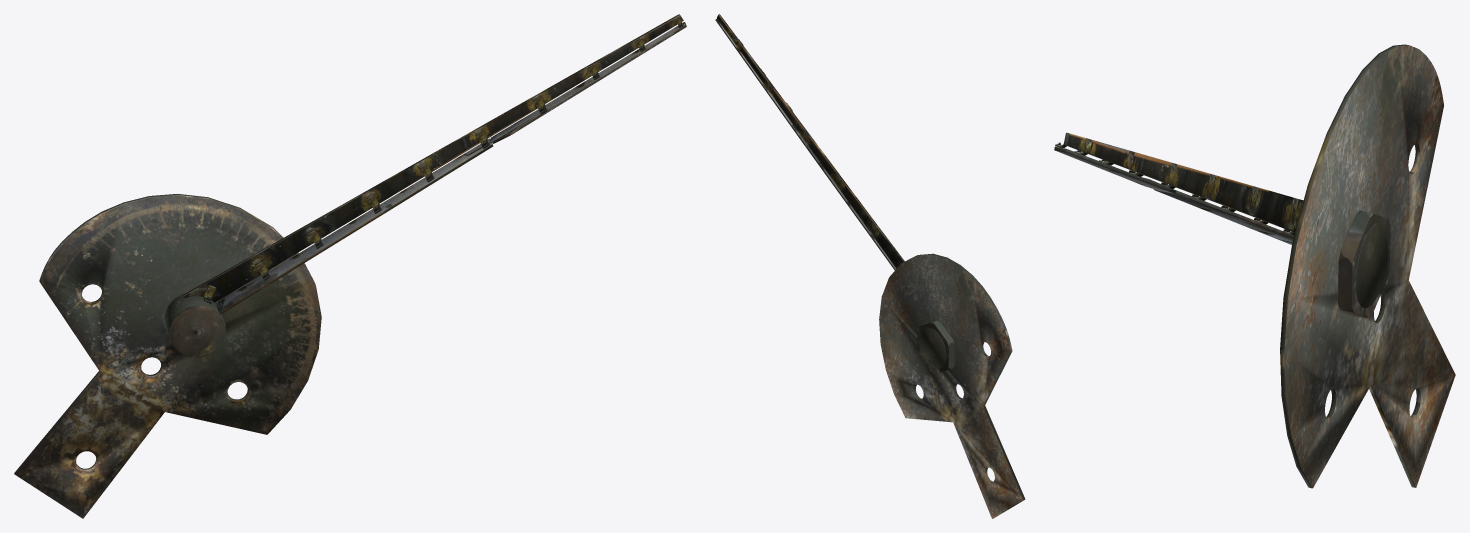
Rendered from Protractor.dae.
The picture shows the model from 3 angles, left to right: view 1: azimuth 30°, elevation 25°; view 2: azimuth 150°, elevation 25°; view 3: azimuth 270°, elevation 25°; orthographic projection. The views are drawn at different scales.
Visible parts, largest first — view 1: SFM_protractor_001; view 2: SFM_protractor_001; view 3: SFM_protractor_001.
Boxes of the visible parts, bbox=[...] form: SFM_protractor_001: bbox=[14, 14, 686, 518]; SFM_protractor_001: bbox=[715, 14, 1025, 518]; SFM_protractor_001: bbox=[1054, 44, 1455, 488].
Bounding box in the file's own units: 1.1 × 0.4694 × 0.9113.
1 material, 1 textured.
